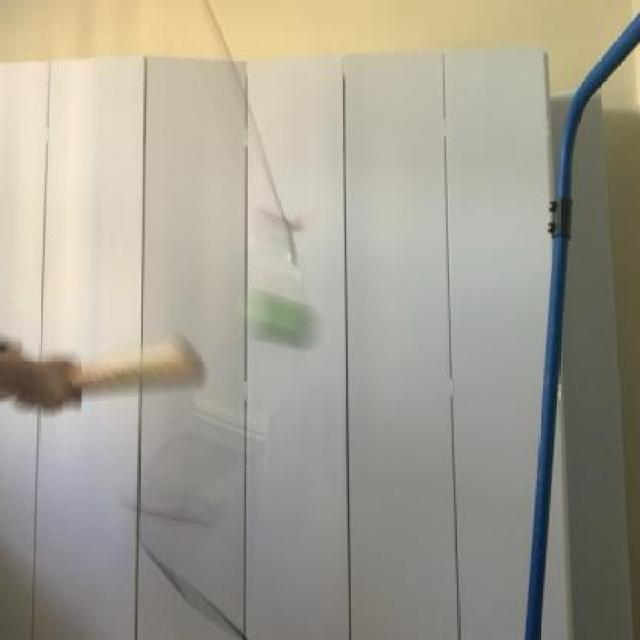baseball: (236, 283, 327, 362)
